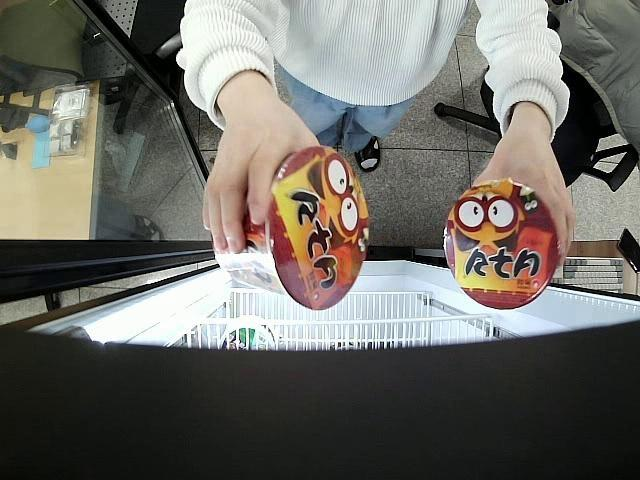05_nuguri_L: (214, 142, 370, 313), (444, 180, 560, 311)
